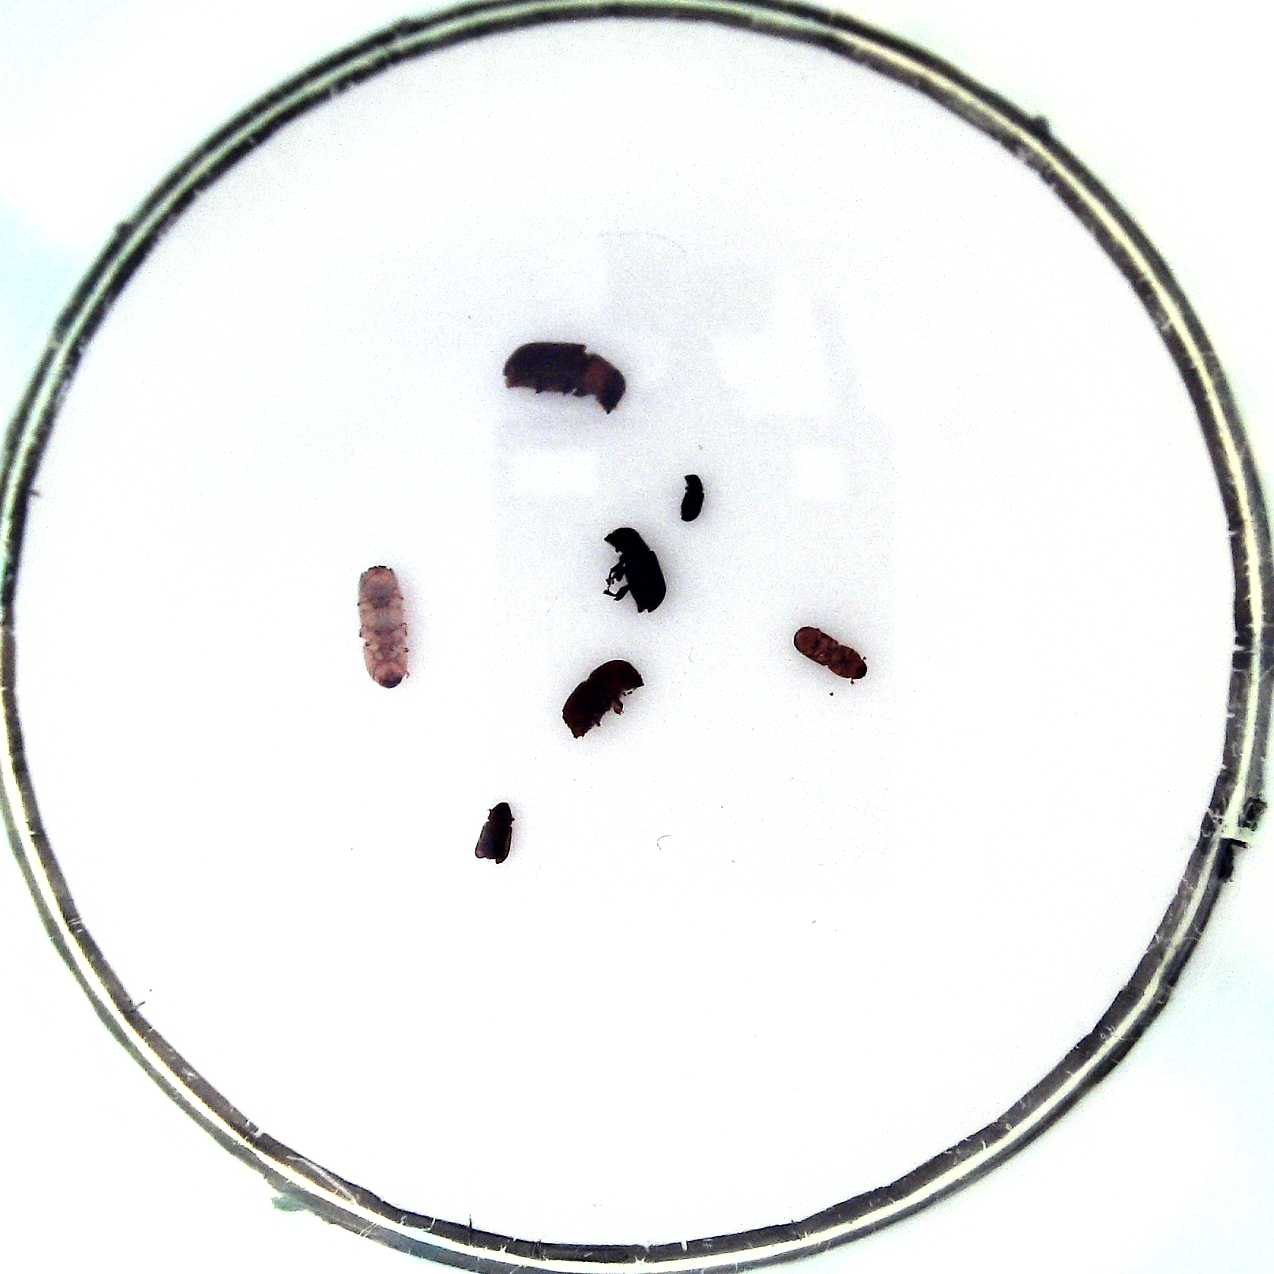Boerner: (357, 563, 409, 688)
Leconte: (503, 342, 626, 416)
acuminatus: (680, 473, 703, 521)
armandi: (604, 526, 667, 612)
coleoptera: (794, 626, 867, 681), (475, 801, 514, 864)
linnaeus: (562, 660, 645, 738)
